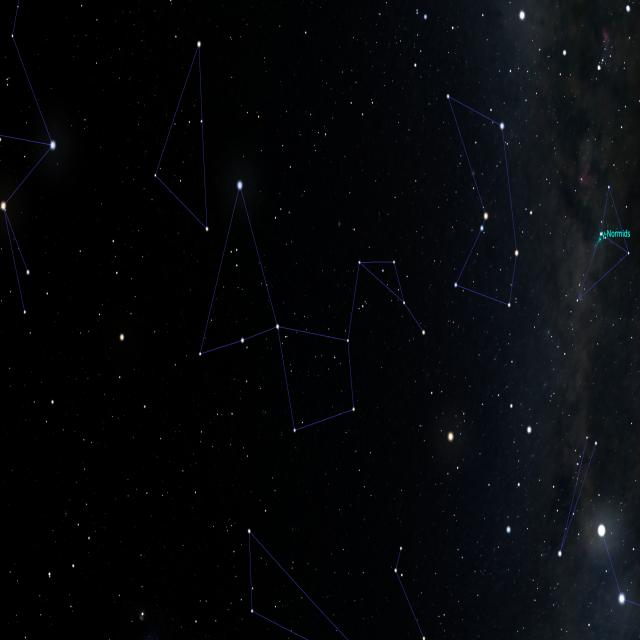Pavo: (184, 172, 436, 448)
